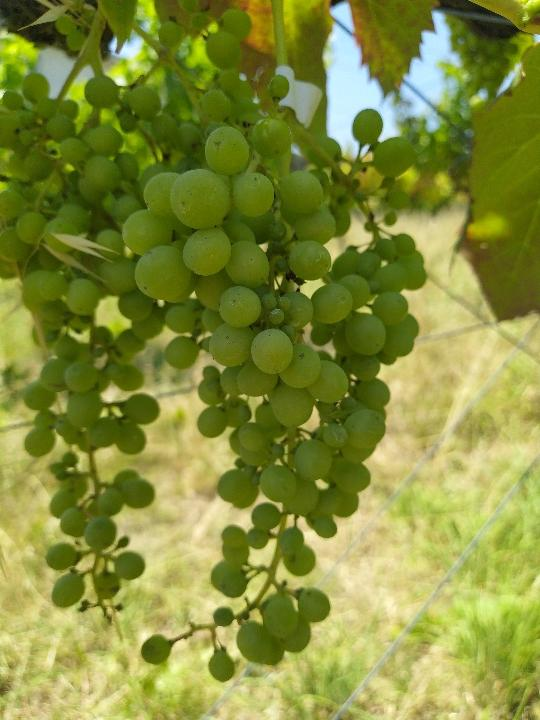grape: (118, 72, 434, 686)
